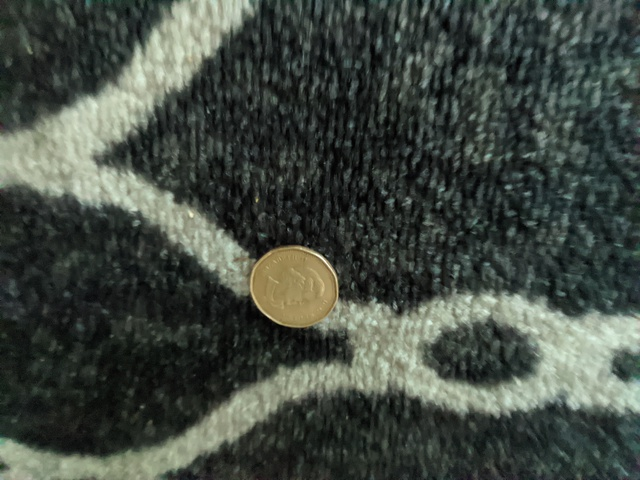loonie: (243, 242, 354, 336)
